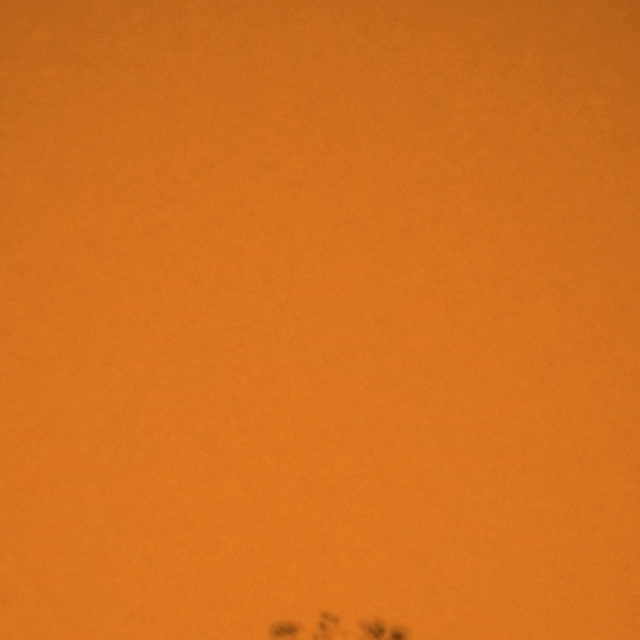sunspot: (267, 611, 346, 640), (308, 610, 344, 640), (360, 618, 400, 640), (266, 620, 305, 640)
